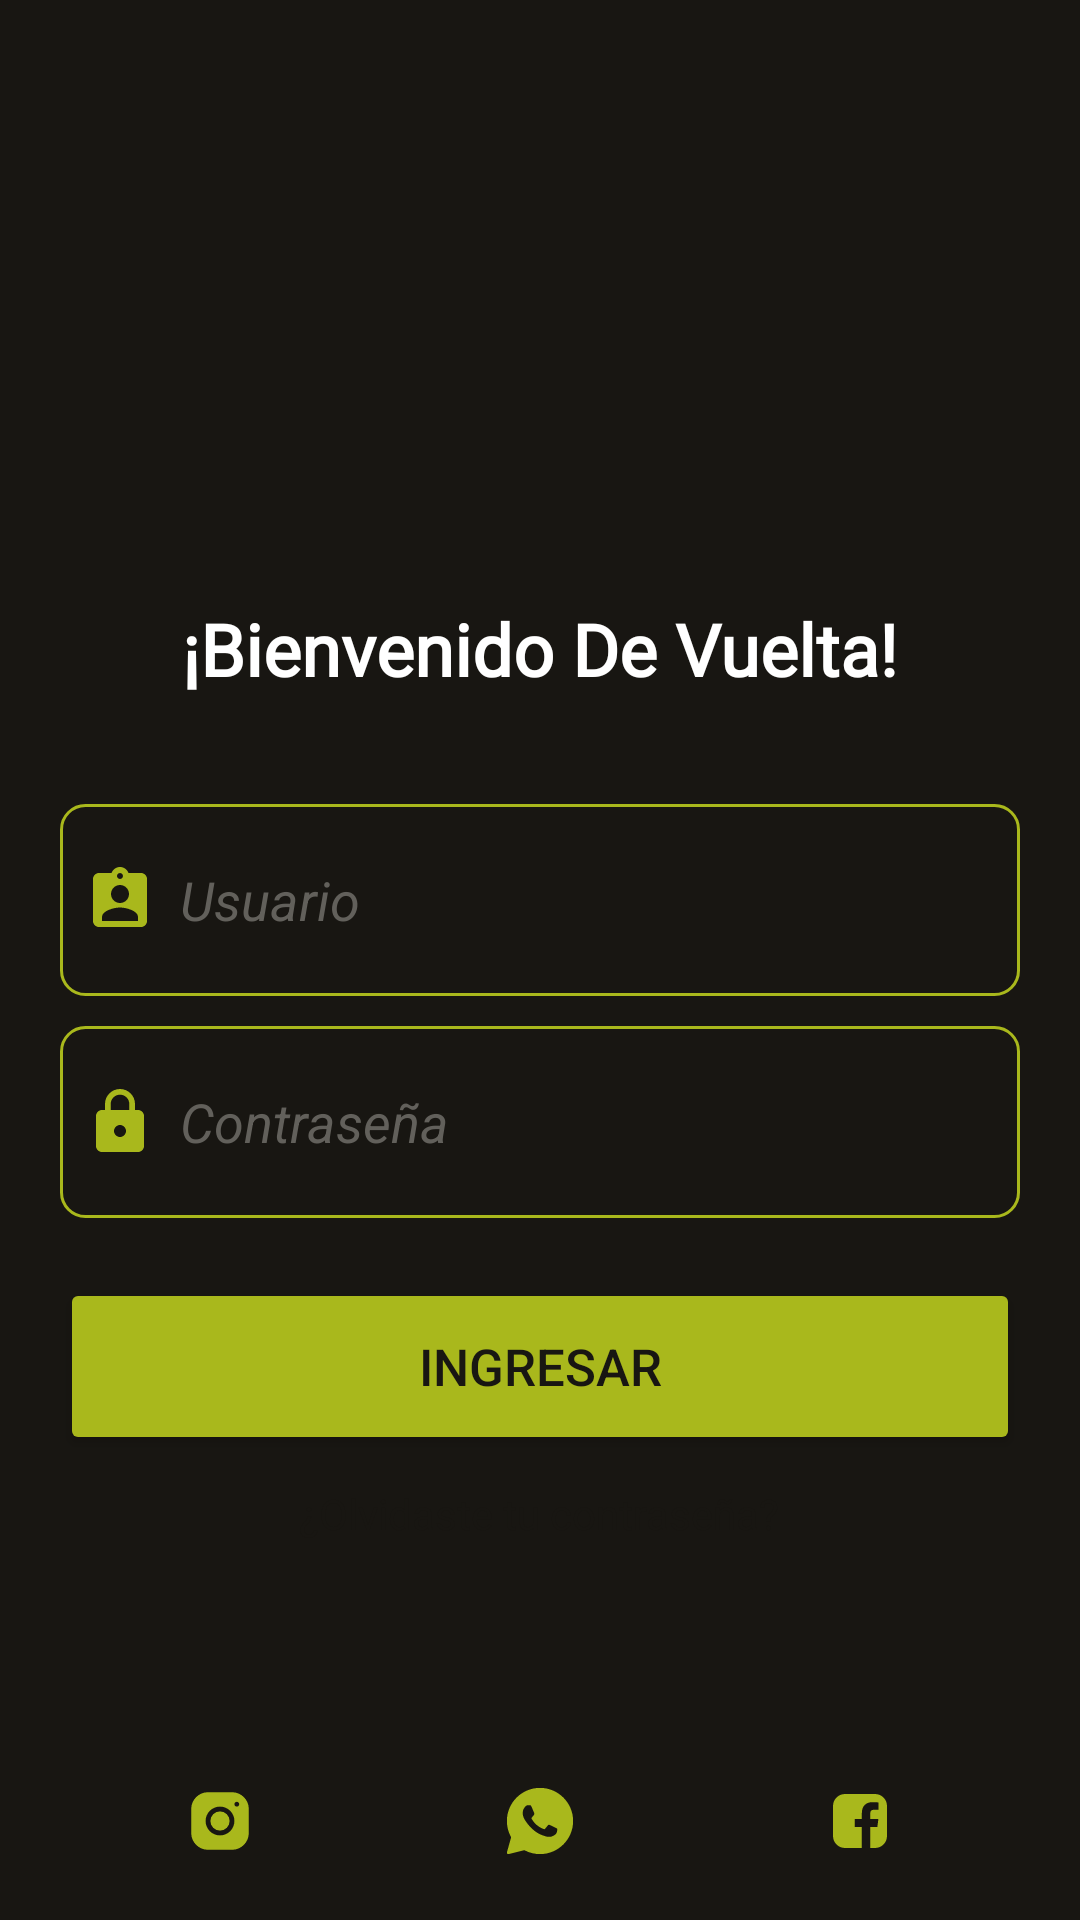

Where icons sit on this 1080 x 1920 app screen, as rect(x1, y1, x2, y2):
password: rect(96, 1089, 144, 1152)
